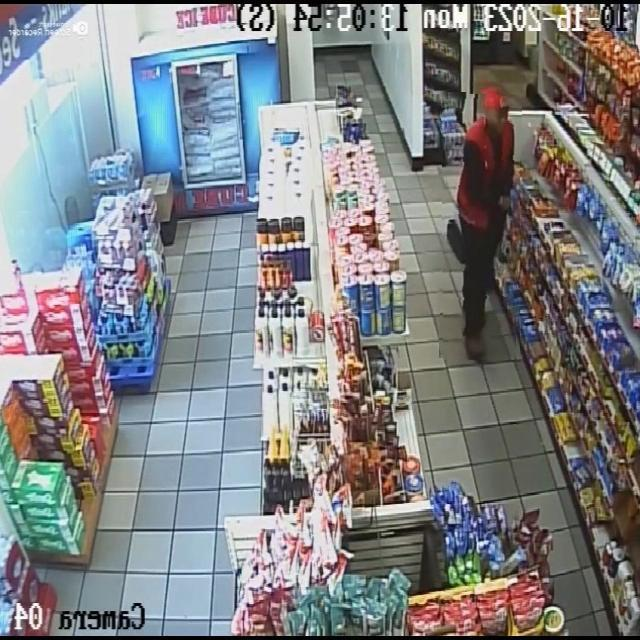Normal: (441, 92, 520, 360)
